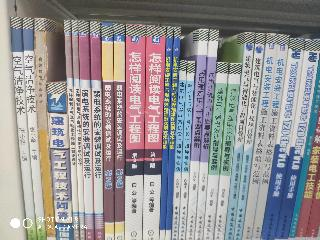book-spine: (273, 38, 320, 240), (260, 37, 304, 240), (250, 34, 289, 240), (241, 33, 277, 240), (232, 34, 265, 240), (225, 32, 255, 240), (11, 16, 37, 240), (193, 30, 218, 239), (141, 26, 165, 240), (23, 18, 46, 240), (213, 63, 241, 240), (124, 25, 146, 240), (35, 19, 56, 239), (203, 62, 228, 240), (187, 29, 207, 239), (47, 84, 72, 239), (158, 27, 174, 239), (64, 20, 79, 239), (79, 22, 94, 239), (166, 26, 180, 239), (172, 61, 187, 239), (179, 62, 194, 239), (91, 22, 103, 239), (73, 21, 84, 239), (113, 24, 124, 240), (103, 23, 113, 239)
